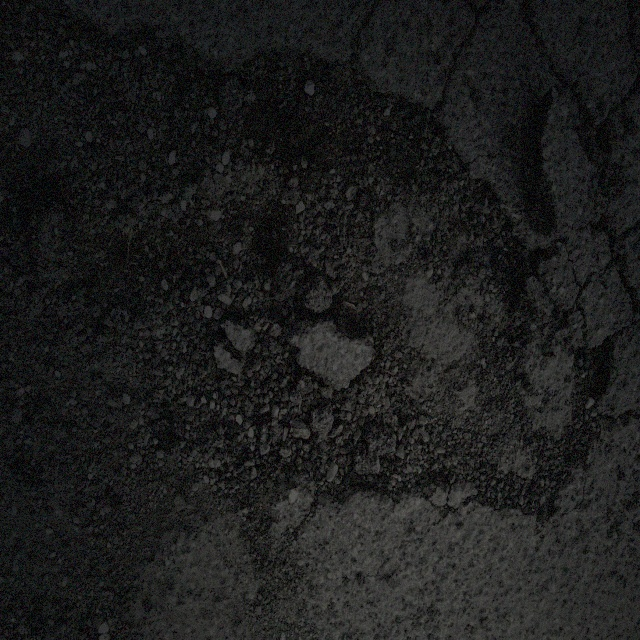pothole: (145, 9, 611, 546)
